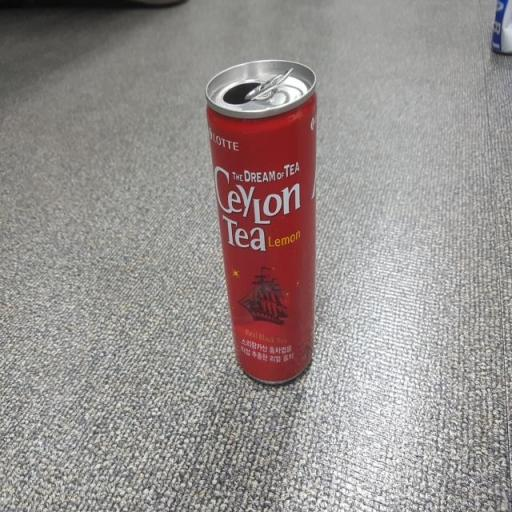metal: (196, 39, 332, 399)
